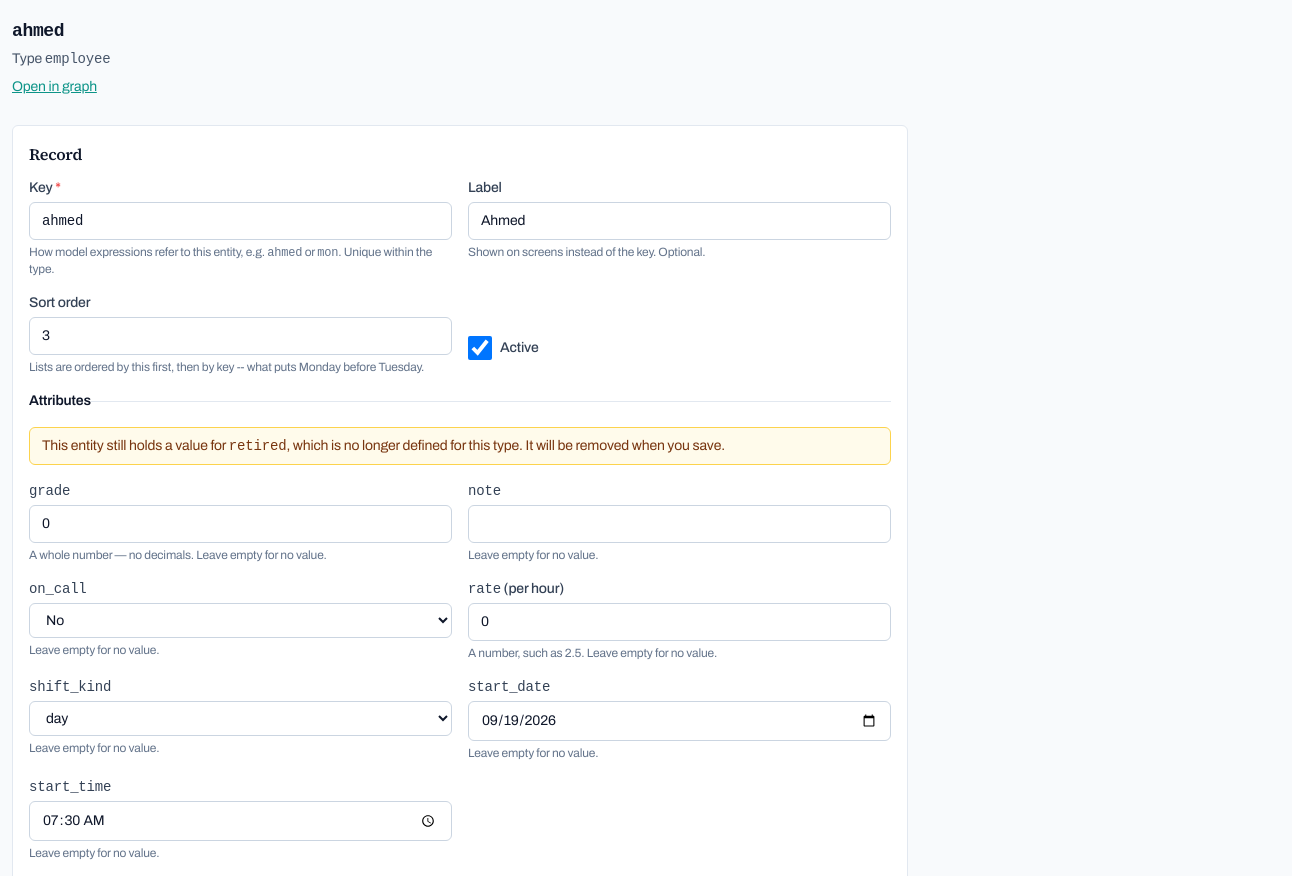
Test: EntityRecord: a concurrent edit (Ruling 42) › shows the refusal with a way out instead of a red line under a control
The image size is (1292, 876).
Expected: the field labelled "grade" is shown, [29, 505, 452, 543]
Replace the text in the field labelled "Label" with "Ahmed (edited here)" at (680, 221), box [468, 202, 891, 240]
(page scrolled)
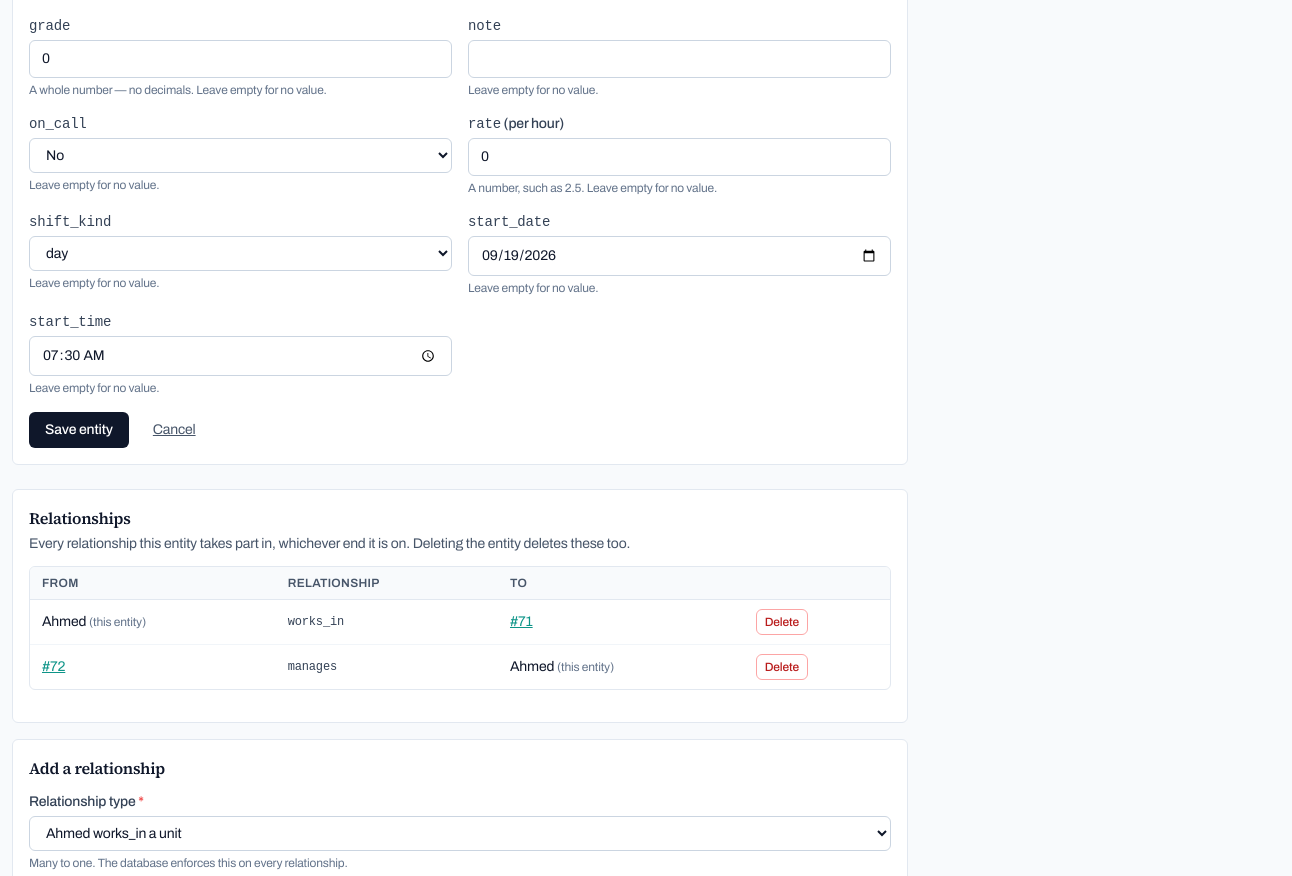
Click the button "Save entity" at (79, 430), box [29, 412, 129, 448]
(page scrolled)
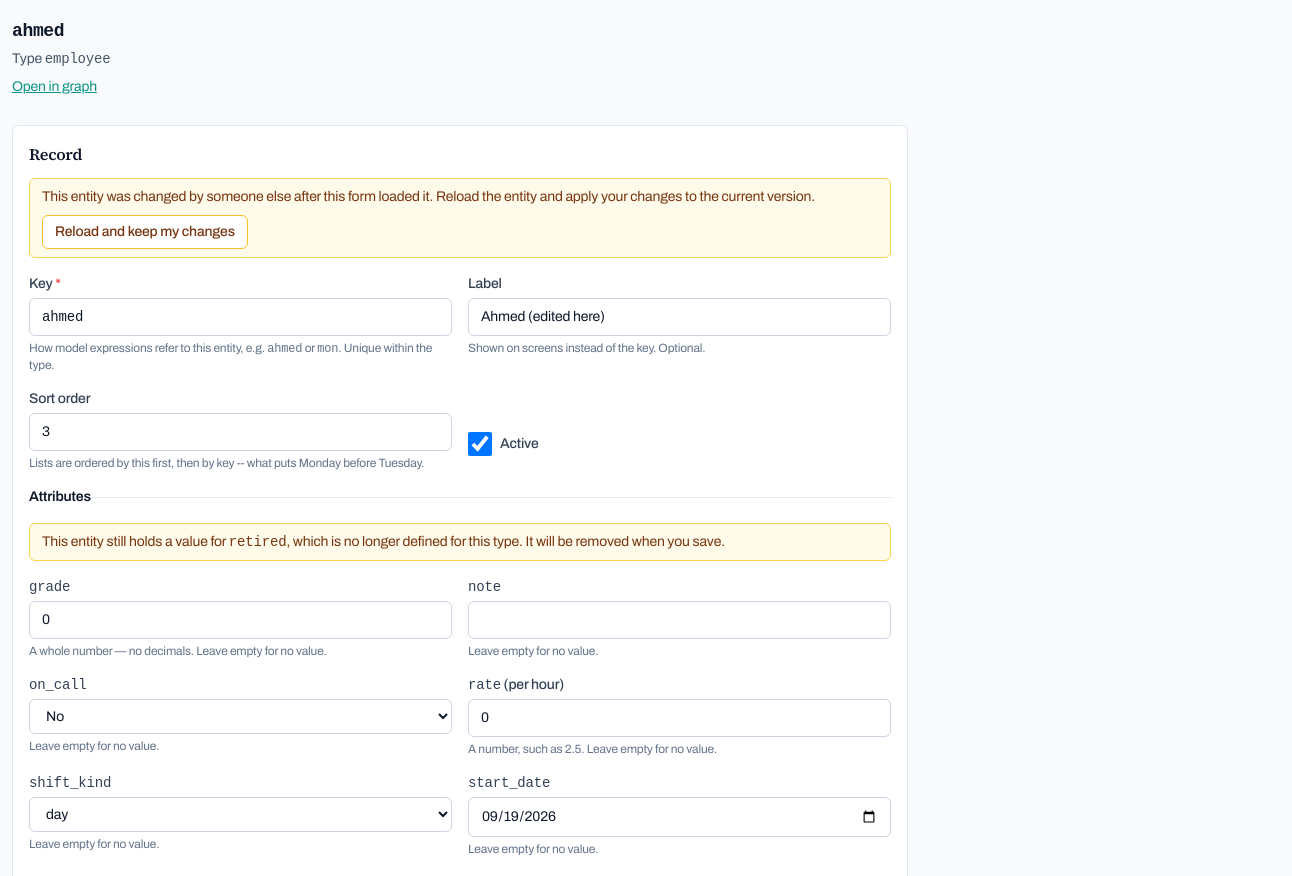
Now the message with test id "stale-record" shows "changed by someone else", box [42, 189, 815, 204]
Now the button "Reload and keep my changes" is shown, box [42, 215, 248, 249]
